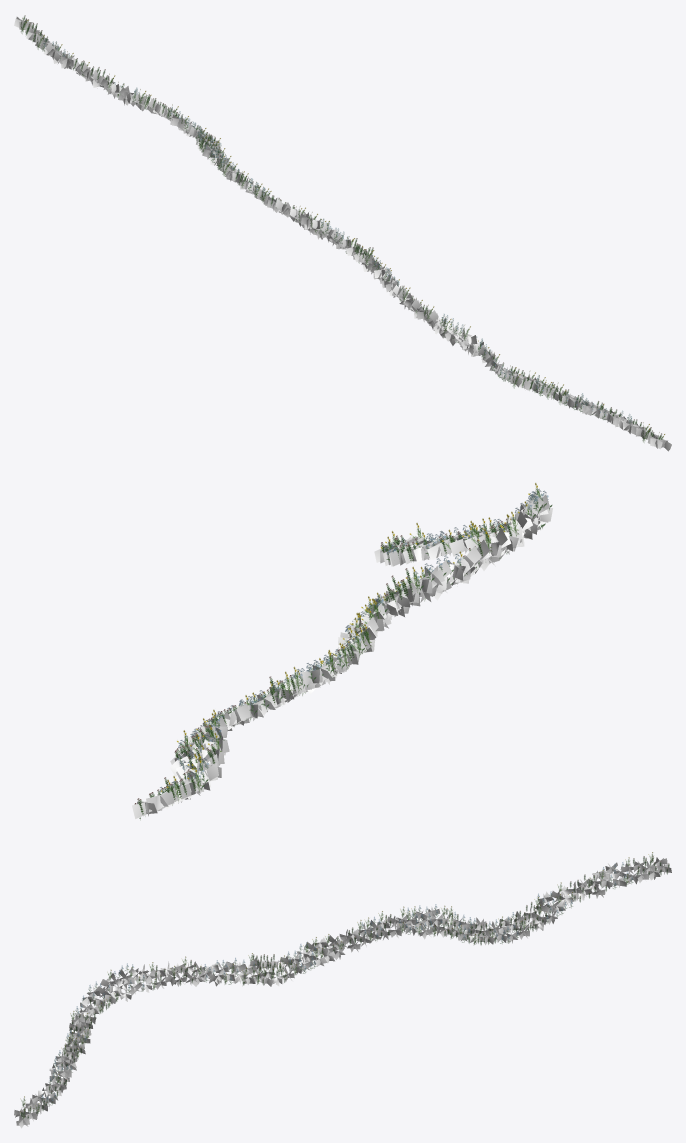
File: grass_9.glb
3 renders of one model, top to bottom at view 1: azimuth 30°, elevation 25°; view 2: azimuth 150°, elevation 25°; view 3: azimuth 270°, elevation 25°, orthographic. The views are drawn at different scales.
Visible parts, largest first — view 1: stk_grassAlpha.png__, BlackEyedSusan.png__, Flower5.png__, Flower3.png__; view 2: stk_grassAlpha.png__, BlackEyedSusan.png__, Flower5.png__, Flower3.png__, Flower3F.png__; view 3: stk_grassAlpha.png__, BlackEyedSusan.png__, Flower5.png__, Flower3.png__, Flower3F.png__.
Part boxes in pixels (left/top/right/bottom): stk_grassAlpha.png__: left=14, top=17, right=671, bottom=451; BlackEyedSusan.png__: left=20, top=18, right=664, bottom=442; Flower5.png__: left=22, top=15, right=661, bottom=439; Flower3.png__: left=41, top=40, right=631, bottom=423; stk_grassAlpha.png__: left=132, top=491, right=552, bottom=818; BlackEyedSusan.png__: left=161, top=483, right=542, bottom=805; Flower5.png__: left=135, top=519, right=512, bottom=820; Flower3.png__: left=160, top=489, right=552, bottom=793; Flower3F.png__: left=159, top=489, right=548, bottom=791; stk_grassAlpha.png__: left=14, top=857, right=671, bottom=1128; BlackEyedSusan.png__: left=20, top=852, right=653, bottom=1118; Flower5.png__: left=21, top=856, right=669, bottom=1118; Flower3.png__: left=42, top=864, right=633, bottom=1105; Flower3F.png__: left=42, top=862, right=633, bottom=1100.
Size of the model in its own units: 80.07 by 61.54 by 211.
6 materials, 5 textured.
